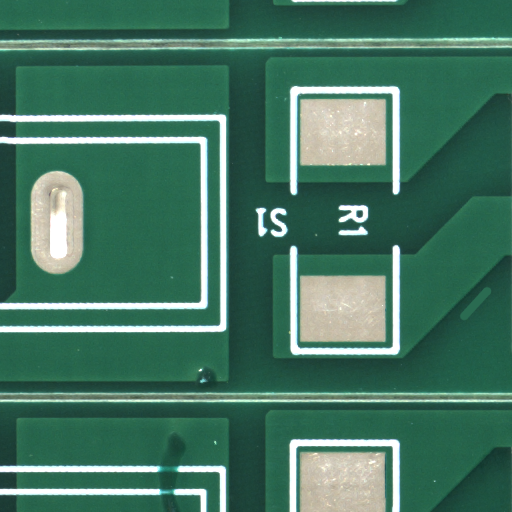Spurious_copper: (475, 302, 508, 333)
